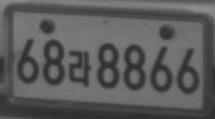6: (176, 46, 200, 95), (16, 38, 40, 84), (150, 46, 172, 93)
8: (42, 38, 66, 85), (96, 42, 119, 89), (123, 44, 146, 91)
라: (68, 49, 92, 88)
